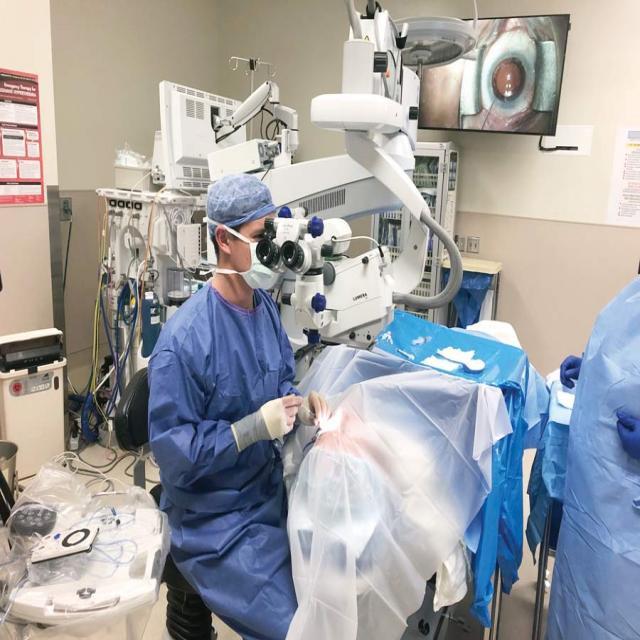Light: (375, 13, 480, 84)
